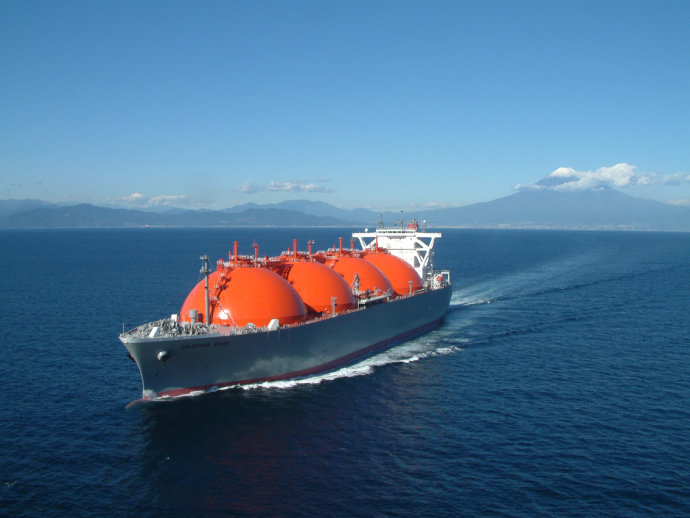Cargoship: (111, 215, 452, 405)
